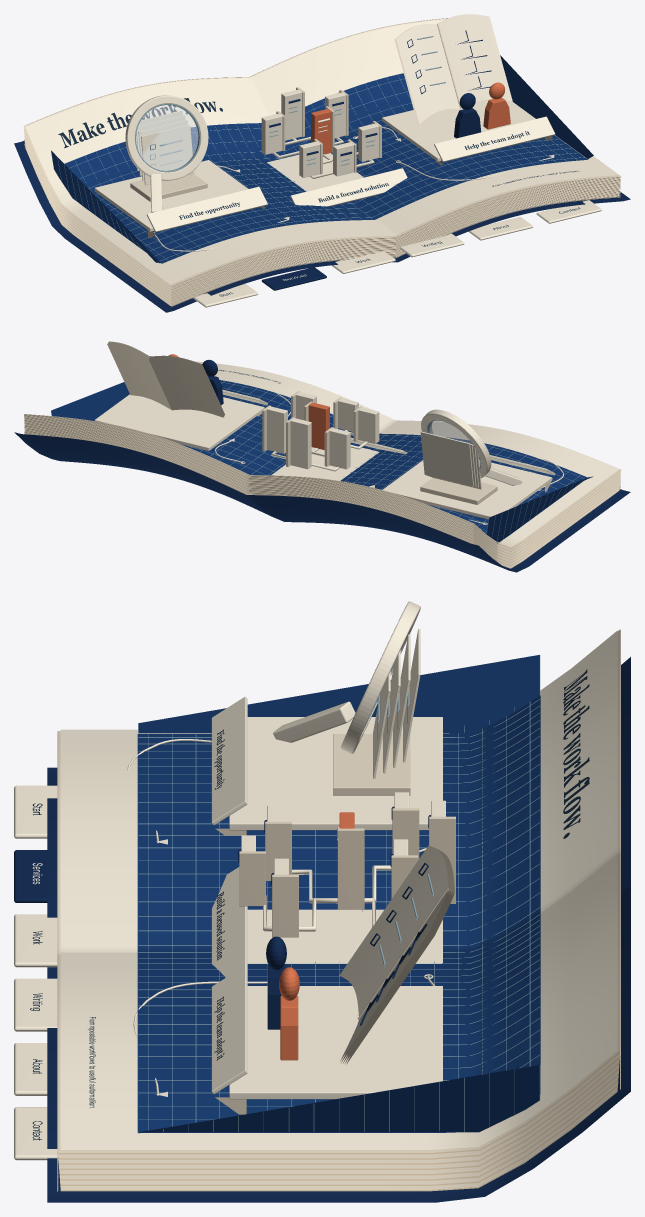
File: services-geometry.glb
3 views of the same model, one above another, from view 1: azimuth 30°, elevation 25°; view 2: azimuth 150°, elevation 25°; view 3: azimuth 270°, elevation 25° (orthographic). The views are drawn at different scales.
Visible parts, largest first — view 1: Reading spread, Fold-out blueprint, Curved manual leaf.005, Cobalt lower cover, Curved manual leaf, Thin transparent magnifier lens, Folded platform 0, Folded platform 2, Folded front nameplate, Folded front nameplate.002, Paper magnifier rim, Paper leaf 29 (+55 smaller); view 2: Cobalt lower cover, Fold-out blueprint, Reading spread, Folded platform 2, Folded platform 0, Curved manual leaf.004, Opportunity task card.003, Curved manual leaf.009, Folded blueprint side wall, Folded blueprint side wall.001, Folded platform 1, Task card stand (+67 smaller); view 3: Fold-out blueprint, Reading spread, Folded platform 2, Cobalt lower cover, Folded platform 0, Folded blueprint side wall.001, Folded blueprint side wall, Curved manual leaf, Folded platform 1, Paper leaf 29, Folded front nameplate, Folded front nameplate.002 (+54 smaller).
Boxes of the visible parts, bbox=[...] form: Reading spread: bbox=[25, 19, 618, 284]; Fold-out blueprint: bbox=[64, 73, 587, 263]; Curved manual leaf.005: bbox=[438, 14, 512, 108]; Cobalt lower cover: bbox=[14, 140, 630, 312]; Curved manual leaf: bbox=[396, 24, 459, 124]; Thin transparent magnifier lens: bbox=[136, 105, 198, 170]; Folded platform 0: bbox=[94, 160, 248, 231]; Folded platform 2: bbox=[382, 99, 535, 161]; Folded front nameplate: bbox=[146, 186, 267, 232]; Folded front nameplate.002: bbox=[434, 116, 555, 162]; Paper magnifier rim: bbox=[125, 95, 208, 180]; Paper leaf 29: bbox=[23, 18, 620, 286]; Cobalt lower cover: bbox=[14, 432, 630, 572]; Fold-out blueprint: bbox=[181, 380, 587, 536]; Reading spread: bbox=[26, 361, 619, 547]; Folded platform 2: bbox=[94, 394, 264, 450]; Folded platform 0: bbox=[382, 459, 551, 519]; Curved manual leaf.004: bbox=[149, 358, 223, 417]; Opportunity task card.003: bbox=[420, 431, 473, 486]; Curved manual leaf.009: bbox=[107, 344, 171, 409]; Folded blueprint side wall: bbox=[486, 476, 592, 543]; Folded blueprint side wall.001: bbox=[51, 382, 129, 420]; Folded platform 1: bbox=[271, 447, 379, 480]; Task card stand: bbox=[420, 478, 497, 504]; Fold-out blueprint: bbox=[137, 695, 540, 1132]; Reading spread: bbox=[60, 630, 617, 1149]; Folded platform 2: bbox=[229, 986, 442, 1099]; Cobalt lower cover: bbox=[47, 657, 630, 1202]; Folded platform 0: bbox=[229, 717, 442, 830]; Folded blueprint side wall.001: bbox=[138, 1065, 539, 1133]; Folded blueprint side wall: bbox=[138, 655, 539, 733]; Curved manual leaf: bbox=[339, 845, 448, 1015]; Folded platform 1: bbox=[247, 909, 442, 963]; Paper leaf 29: bbox=[58, 630, 620, 1152]; Folded front nameplate: bbox=[211, 696, 247, 825]; Folded front nameplate.002: bbox=[211, 965, 247, 1094].
Bounding box in the file's own units: 10.35 × 2.82 × 6.2.
